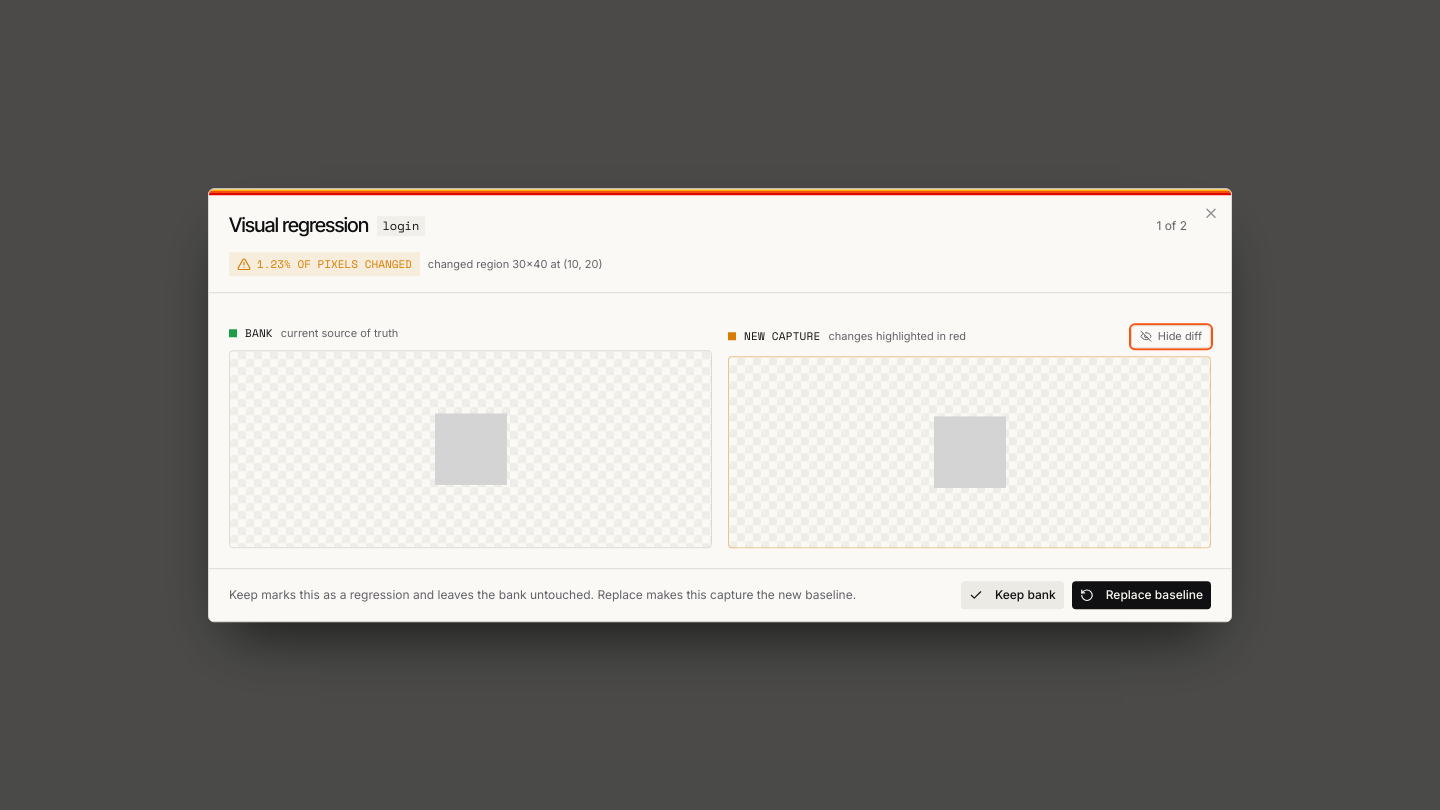
ScreenshotReview › Replace baseline resolves the capture and moves on
Click the button "Replace baseline": coordinates (1141, 595) [1072,581,1211,609]
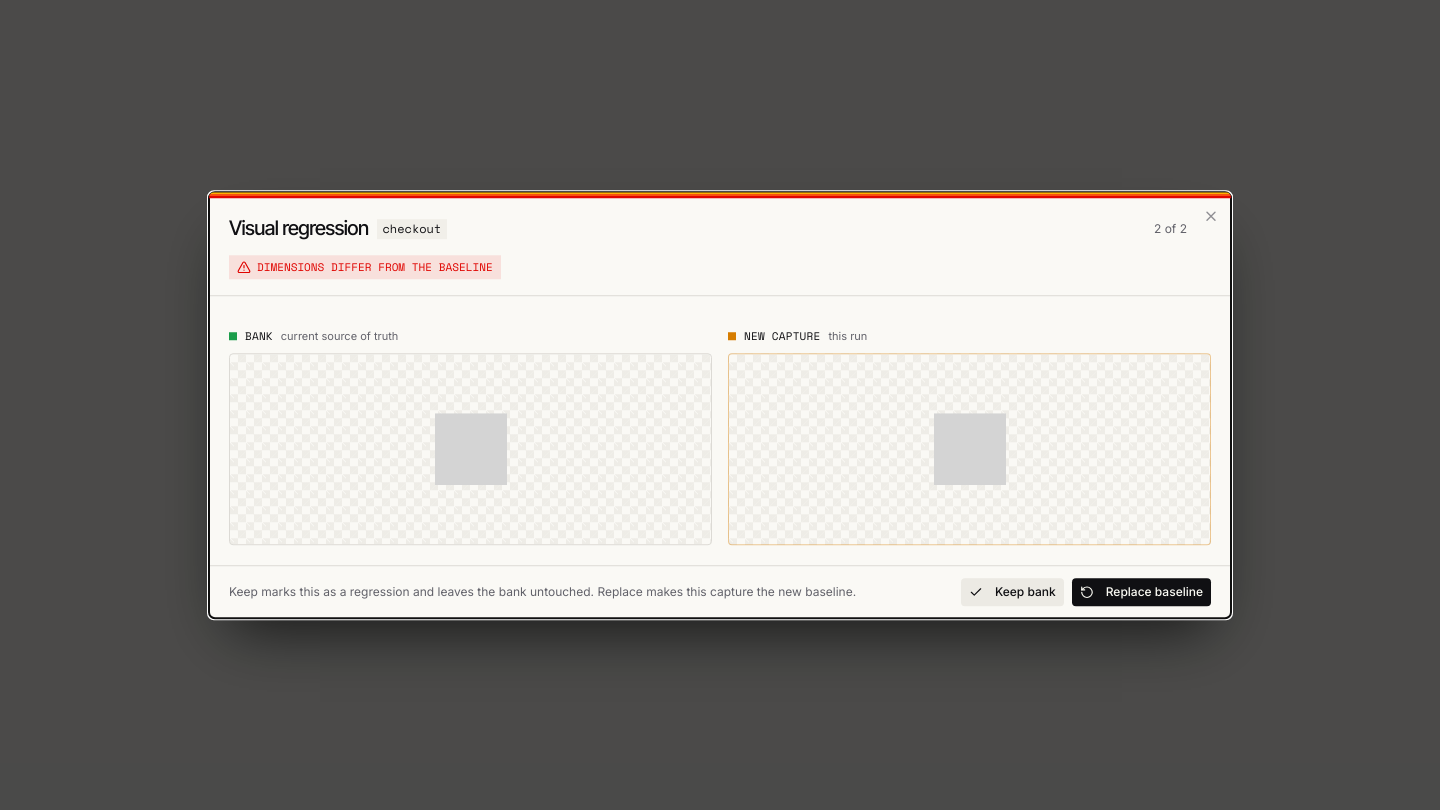
Check: the text "checkout" is shown, box [376,219,447,239]
Check: the text "2 of 2" is shown, box [1154,221,1187,237]
Check: the text "Dimensions differ from the baseline" is shown, box [229,255,501,279]
